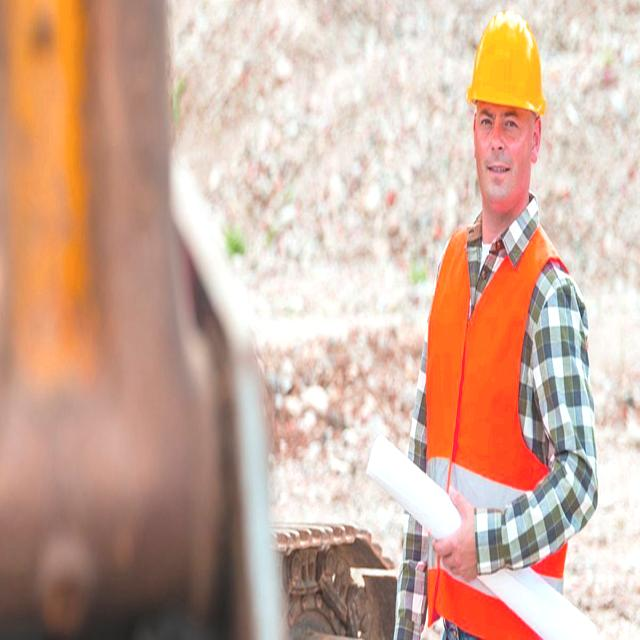face_nomask: (467, 102, 536, 204)
hand_noglove: (427, 480, 489, 596)
head_helmet: (461, 9, 552, 123)
person: (392, 5, 601, 639)
vest: (405, 226, 565, 604)
